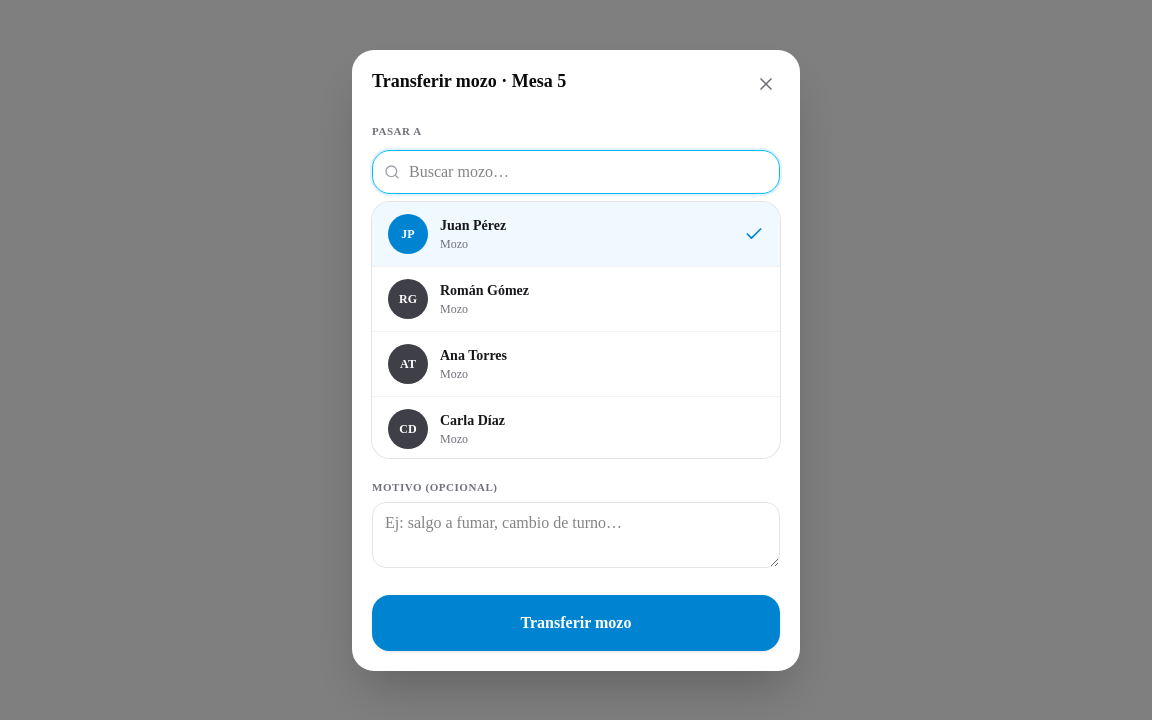
it: elegir mozo · modo transferir (spec 079) › con equipo grande aparece y filtra por nombre
Type "roman" into the field labelled "Buscar mozo…". click: [576, 172]
box: [372,150,780,194]
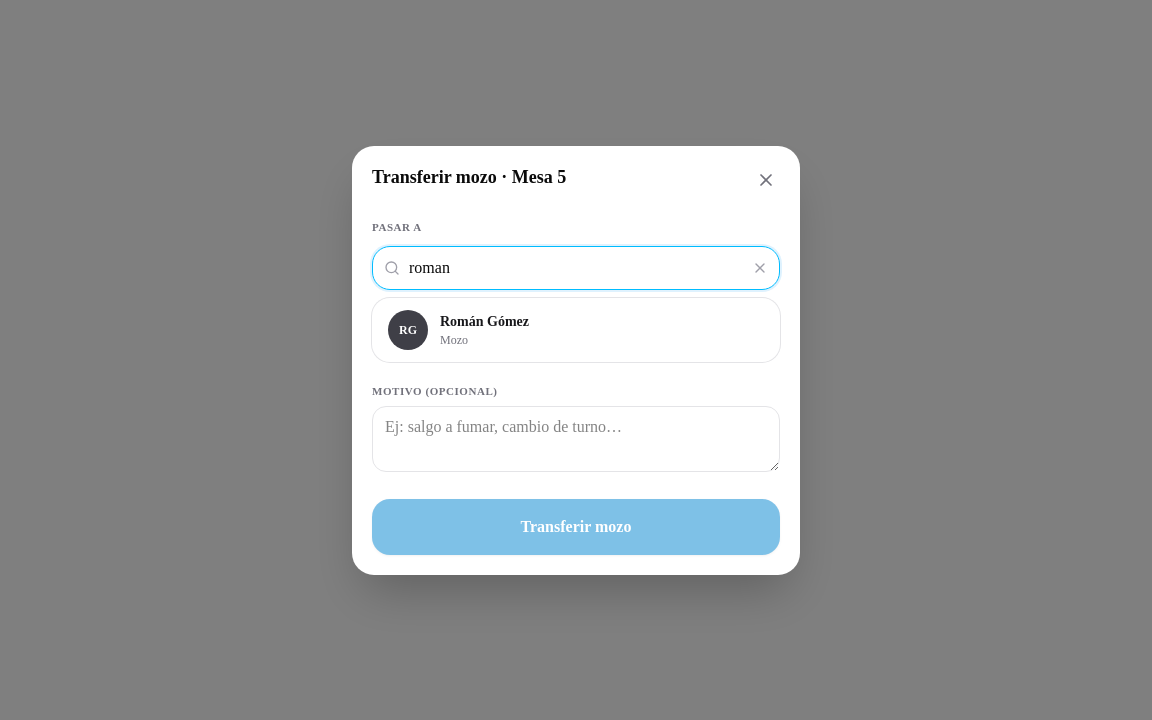
Expected: the text "Román Gómez" is shown, [440,314,529,328]
Result: the button "Juan Pérez" is gone
